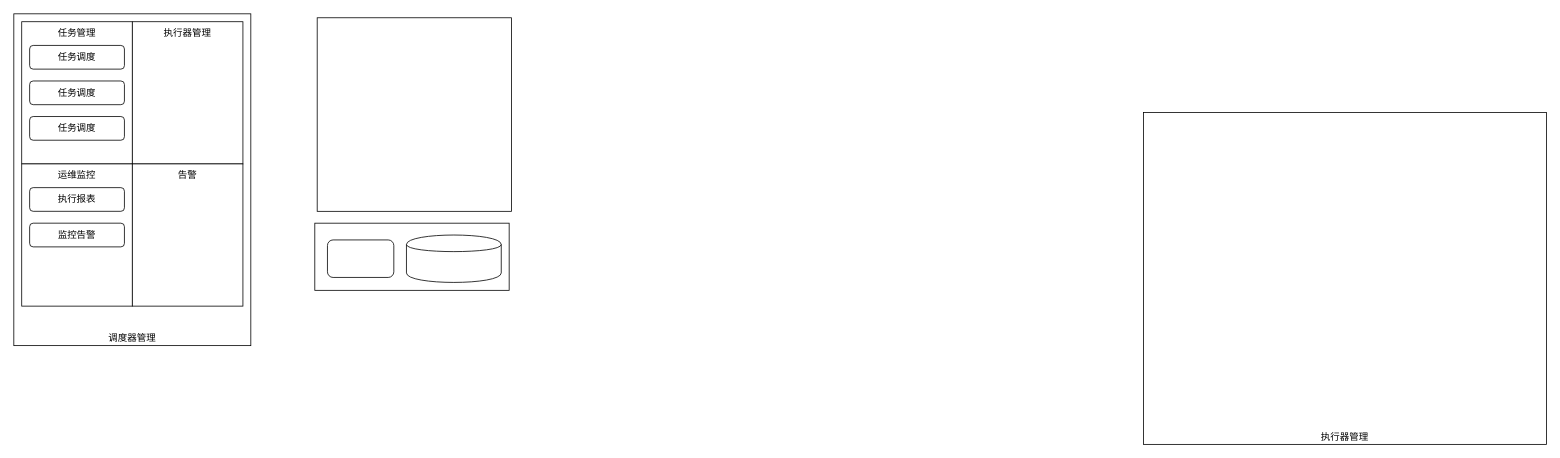
Some shapes in this 1560 by 458 pixel diagram are drawn without their labels. Here are the shapes that lost their labels. From the top down, the centre of each, then its label:
the point at 414,114: 执行器
the point at 360,258: 回调线程
the point at 453,258: 执行结果 （queue）
